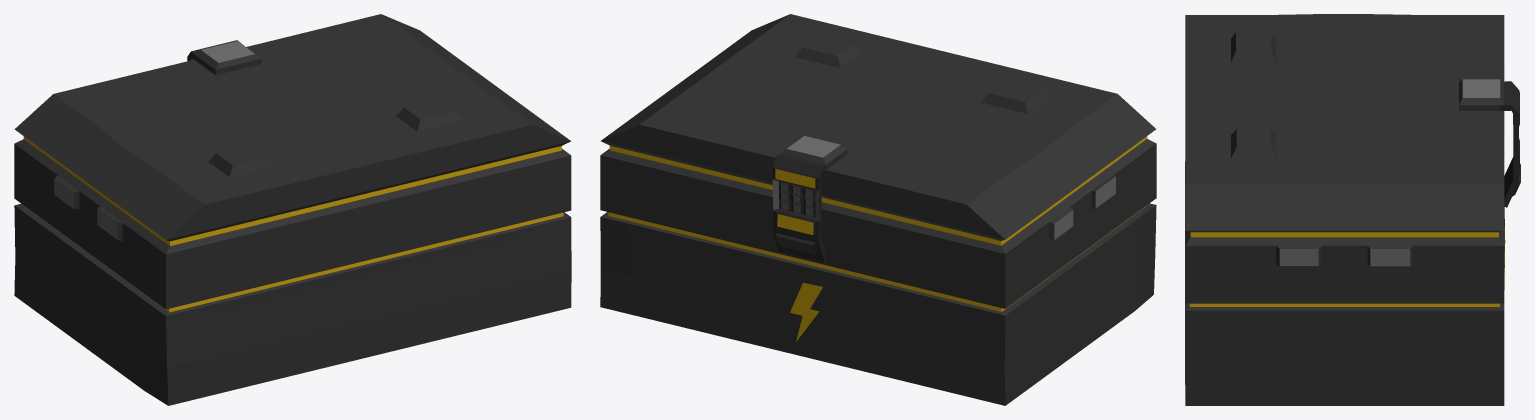
The model's file is caja energía.fbx.
3 views of the same model, side by side, from view 1: azimuth 30°, elevation 25°; view 2: azimuth 150°, elevation 25°; view 3: azimuth 270°, elevation 25° (orthographic). The views are drawn at different scales.
Visible parts, largest first — view 1: Caja Electrica; view 2: Caja Electrica; view 3: Caja Electrica.
Boxes of the visible parts, bbox=[...] form: Caja Electrica: bbox=[14, 14, 571, 405]; Caja Electrica: bbox=[600, 14, 1156, 405]; Caja Electrica: bbox=[1185, 14, 1520, 405].
Bounding box in the file's own units: 150 × 70 × 100.
Materials: 1 (1 with a texture image).
